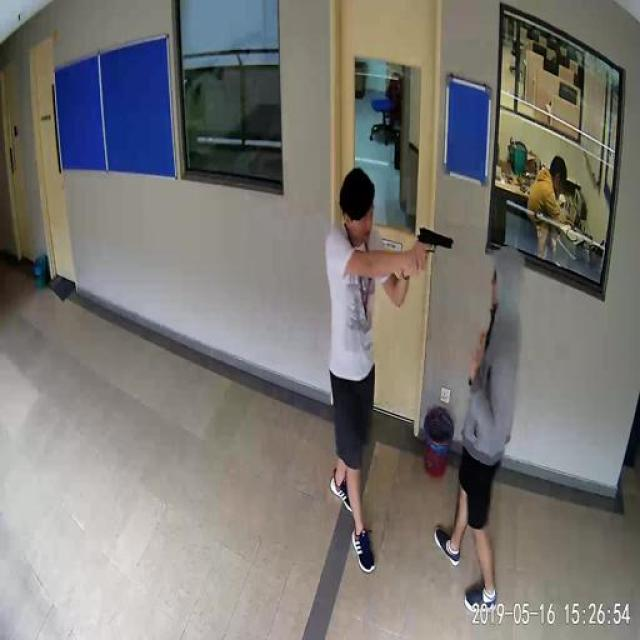senjata_api: (418, 226, 455, 249)
